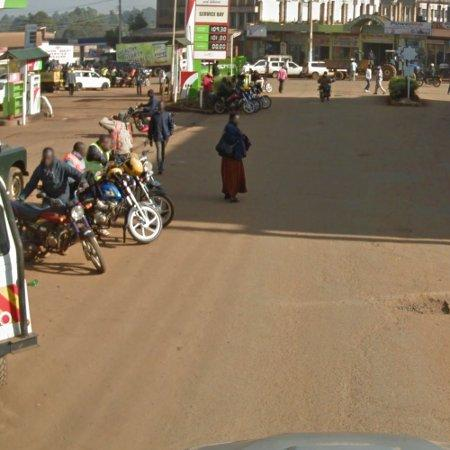motorcycles: (11, 185, 108, 274), (79, 170, 164, 246)
